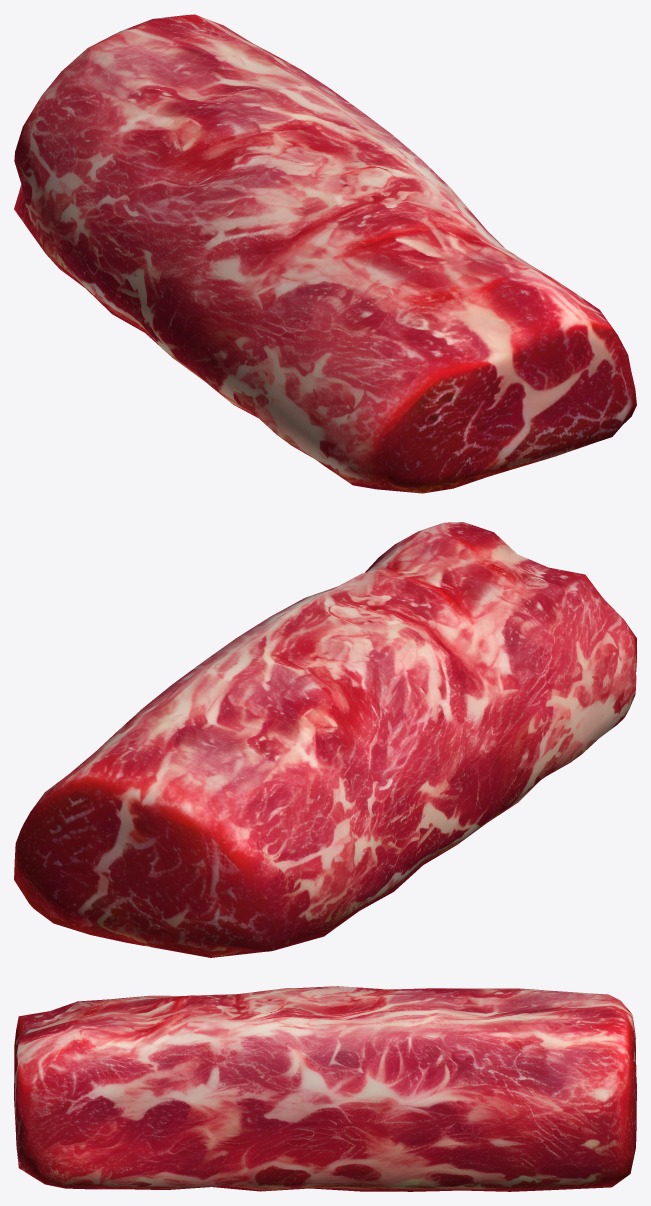
File: meat_piece_raw.glb
The picture shows the model from 3 angles, top to bottom: view 1: azimuth 30°, elevation 25°; view 2: azimuth 150°, elevation 25°; view 3: azimuth 270°, elevation 25°; orthographic projection. The views are drawn at different scales.
Parts seen in each view (by area): view 1: Meat_piece; view 2: Meat_piece; view 3: Meat_piece.
Part boxes in pixels (box(x1,y1,x2,y2)): Meat_piece: box(14, 14, 636, 493); Meat_piece: box(14, 522, 636, 957); Meat_piece: box(14, 986, 636, 1191).
Size of the model in its own units: 0.2154 by 0.1283 by 0.4844.
1 material, 1 textured.
